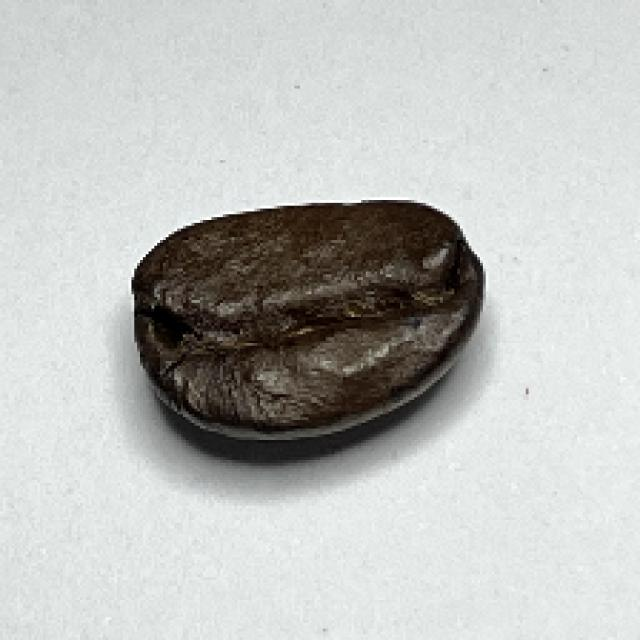bean: (129, 200, 482, 441)
